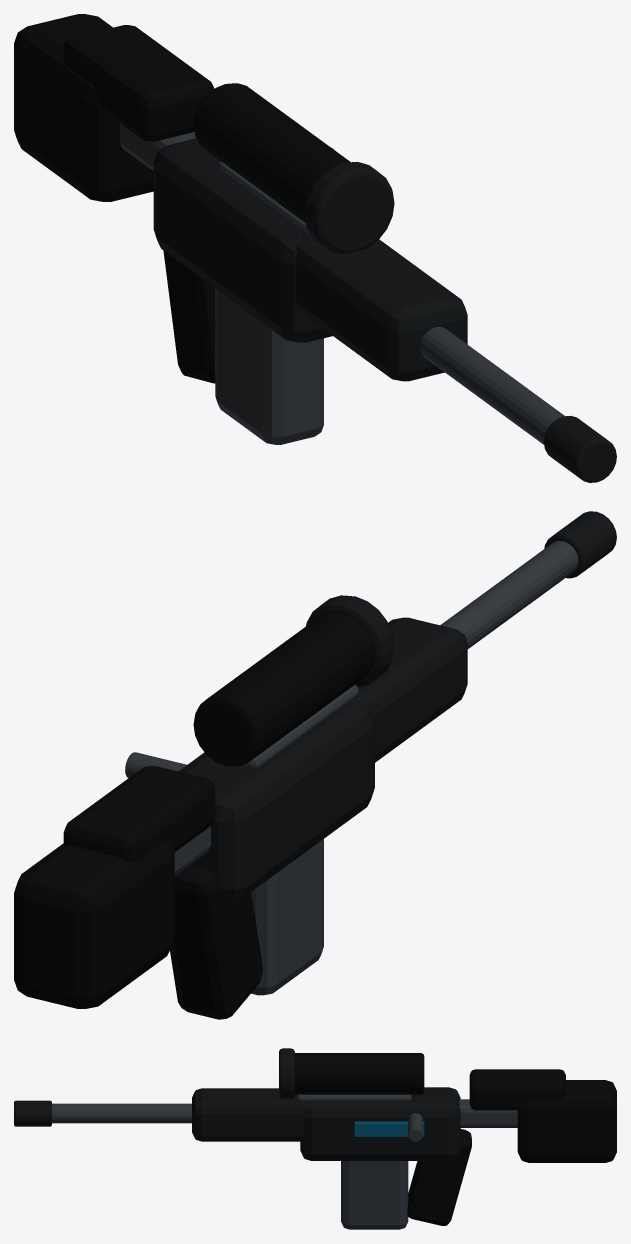
The model's file is awp.obj.
3 views of the same model, one above another, from view 1: azimuth 30°, elevation 25°; view 2: azimuth 150°, elevation 25°; view 3: azimuth 270°, elevation 25° (orthographic). The views are drawn at different scales.
Parts seen in each view (by area): view 1: Receiver.002_0, Upper_handguard.002_0, Adjustable_stock.001_0, Magazine.002_0, Cheek_rest_0, Scope_body_0, Scope_objective_0, Barrel.002_0, Pistol_grip.002_0, Muzzle_brake.002_0, Buffer_tube.001_0, Scope_rail_0; view 2: Adjustable_stock.001_0, Receiver.002_0, Scope_body_0, Pistol_grip.002_0, Cheek_rest_0, Upper_handguard.002_0, Magazine.002_0, Barrel.002_0, Scope_objective_0, Muzzle_brake.002_0, Scope_rail_0, Buffer_tube.001_0 (+1 smaller); view 3: Receiver.002_0, Adjustable_stock.001_0, Upper_handguard.002_0, Scope_body_0, Magazine.002_0, Cheek_rest_0, Pistol_grip.002_0, Barrel.002_0, Buffer_tube.001_0, Muzzle_brake.002_0, Aurora_serial_plate.002_0, Scope_objective_0 (+2 smaller).
Boxes of the visible parts, x1=… form: Receiver.002_0: x1=153, y1=138, x2=332, y2=342; Upper_handguard.002_0: x1=295, y1=235, x2=467, y2=381; Adjustable_stock.001_0: x1=14, y1=14, x2=153, y2=201; Magazine.002_0: x1=215, y1=288, x2=323, y2=444; Cheek_rest_0: x1=63, y1=25, x2=214, y2=141; Scope_body_0: x1=193, y1=83, x2=350, y2=222; Scope_objective_0: x1=304, y1=162, x2=394, y2=254; Barrel.002_0: x1=420, y1=326, x2=564, y2=444; Pistol_grip.002_0: x1=163, y1=250, x2=215, y2=383; Muzzle_brake.002_0: x1=544, y1=416, x2=616, y2=482; Buffer_tube.001_0: x1=120, y1=123, x2=195, y2=170; Scope_rail_0: x1=217, y1=161, x2=319, y2=243; Adjustable_stock.001_0: x1=14, y1=840, x2=174, y2=1008; Receiver.002_0: x1=178, y1=702, x2=374, y2=900; Scope_body_0: x1=193, y1=611, x2=375, y2=766; Pistol_grip.002_0: x1=170, y1=865, x2=263, y2=1019; Cheek_rest_0: x1=63, y1=766, x2=215, y2=862; Upper_handguard.002_0: x1=345, y1=617, x2=467, y2=762; Magazine.002_0: x1=251, y1=839, x2=323, y2=995; Barrel.002_0: x1=440, y1=540, x2=578, y2=648; Scope_objective_0: x1=306, y1=595, x2=394, y2=687; Muzzle_brake.002_0: x1=544, y1=511, x2=616, y2=578; Scope_rail_0: x1=244, y1=685, x2=358, y2=767; Buffer_tube.001_0: x1=174, y1=826, x2=210, y2=875; Receiver.002_0: x1=300, y1=1087, x2=460, y2=1160; Adjustable_stock.001_0: x1=517, y1=1080, x2=616, y2=1162; Upper_handguard.002_0: x1=192, y1=1088, x2=342, y2=1141; Scope_body_0: x1=295, y1=1053, x2=424, y2=1094; Magazine.002_0: x1=341, y1=1161, x2=408, y2=1229; Cheek_rest_0: x1=469, y1=1069, x2=565, y2=1110; Pistol_grip.002_0: x1=407, y1=1129, x2=471, y2=1225; Barrel.002_0: x1=52, y1=1103, x2=191, y2=1123; Buffer_tube.001_0: x1=459, y1=1099, x2=517, y2=1127; Muzzle_brake.002_0: x1=14, y1=1100, x2=51, y2=1126; Aurora_serial_plate.002_0: x1=354, y1=1121, x2=424, y2=1136; Scope_objective_0: x1=279, y1=1048, x2=294, y2=1099.
Bounding box in the file's own units: 0.32 × 0.658 × 2.06.
